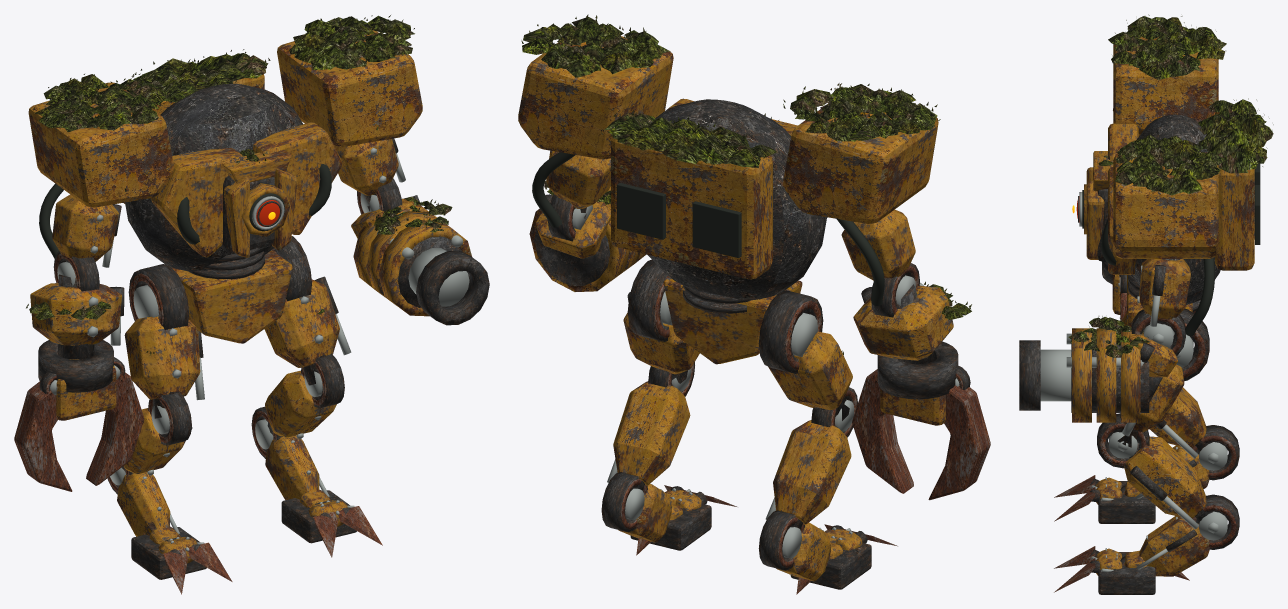
File: forest-warden.glb
The picture shows the model from 3 angles, left to right: view 1: azimuth 30°, elevation 25°; view 2: azimuth 150°, elevation 25°; view 3: azimuth 270°, elevation 25°; orthographic projection. The views are drawn at different scales.
Parts seen in each view (by area): view 1: Torso_Mesh, Heavy_shoulder_-1_Mesh, Heavy_forearm_-1_Mesh, Heavy_shoulder_1_Mesh, Heavy_forearm_1_Mesh, heavy_leg_-1_segment_0_Mesh, Head_Mesh, Pelvis_Mesh, heavy_leg_1_segment_0_Mesh, heavy_leg_1_segment_1_Mesh, Heavy_back_Mesh, heavy_leg_1_foot_Mesh (+4 smaller); view 2: Heavy_back_Mesh, Heavy_shoulder_-1_Mesh, Heavy_shoulder_1_Mesh, Heavy_forearm_-1_Mesh, Torso_Mesh, heavy_leg_-1_segment_0_Mesh, Heavy_forearm_1_Mesh, heavy_leg_-1_segment_1_Mesh, heavy_leg_1_segment_1_Mesh, Pelvis_Mesh, heavy_leg_1_segment_0_Mesh, heavy_leg_-1_segment_2_Mesh (+3 smaller); view 3: Heavy_shoulder_1_Mesh, Heavy_forearm_1_Mesh, Heavy_shoulder_-1_Mesh, Heavy_back_Mesh, heavy_leg_1_segment_1_Mesh, heavy_leg_1_segment_2_Mesh, Torso_Mesh, heavy_leg_1_segment_0_Mesh, heavy_leg_1_foot_Mesh, heavy_leg_-1_foot_Mesh, Head_Mesh, heavy_leg_-1_segment_2_Mesh (+3 smaller).
Boxes of the visible parts, x1,y1,x2,y2 form: Torso_Mesh: (125, 83, 342, 279); Heavy_shoulder_-1_Mesh: (28, 74, 174, 267); Heavy_forearm_-1_Mesh: (14, 251, 144, 491); Heavy_shoulder_1_Mesh: (277, 15, 422, 203); Heavy_forearm_1_Mesh: (351, 178, 489, 325); heavy_leg_-1_segment_0_Mesh: (124, 264, 204, 418); Head_Mesh: (220, 148, 297, 257); Pelvis_Mesh: (172, 250, 292, 343); heavy_leg_1_segment_0_Mesh: (264, 236, 351, 385); heavy_leg_1_segment_1_Mesh: (265, 353, 344, 439); Heavy_back_Mesh: (110, 49, 378, 203); heavy_leg_1_foot_Mesh: (281, 489, 382, 557); Heavy_back_Mesh: (601, 110, 863, 279); Heavy_shoulder_-1_Mesh: (783, 83, 940, 306); Heavy_shoulder_1_Mesh: (518, 14, 673, 227); Heavy_forearm_-1_Mesh: (852, 263, 990, 500); Torso_Mesh: (648, 98, 827, 313); heavy_leg_-1_segment_0_Mesh: (758, 290, 852, 420); Heavy_forearm_1_Mesh: (529, 180, 645, 291); heavy_leg_-1_segment_1_Mesh: (765, 387, 857, 529); heavy_leg_1_segment_1_Mesh: (607, 362, 694, 490); Pelvis_Mesh: (663, 277, 802, 364); heavy_leg_1_segment_0_Mesh: (623, 259, 699, 383); heavy_leg_-1_segment_2_Mesh: (758, 510, 830, 581); Heavy_shoulder_1_Mesh: (1113, 135, 1226, 336); Heavy_forearm_1_Mesh: (1019, 309, 1185, 422); Heavy_shoulder_-1_Mesh: (1108, 14, 1226, 136); Heavy_back_Mesh: (1113, 98, 1273, 270); heavy_leg_1_segment_1_Mesh: (1097, 413, 1212, 529); heavy_leg_1_segment_2_Mesh: (1136, 494, 1239, 576); Torso_Mesh: (1101, 114, 1220, 311); heavy_leg_1_segment_0_Mesh: (1110, 308, 1209, 447); heavy_leg_1_foot_Mesh: (1054, 546, 1189, 594); heavy_leg_-1_foot_Mesh: (1054, 475, 1155, 523); Head_Mesh: (1072, 151, 1113, 262); heavy_leg_-1_segment_2_Mesh: (1136, 425, 1239, 498).
Size of the model in its own units: 3.1 by 3.32 by 1.66.
8 materials, 4 textured.
